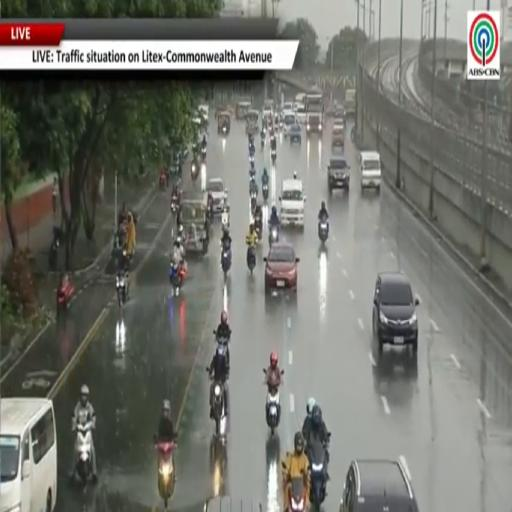bus: (0, 398, 57, 511)
car: (340, 458, 418, 511), (373, 272, 419, 356), (264, 242, 299, 293), (279, 179, 305, 229), (204, 495, 263, 511), (327, 155, 350, 194), (360, 152, 381, 191), (207, 178, 226, 214), (283, 110, 296, 137), (288, 123, 302, 145), (334, 106, 345, 125), (296, 104, 306, 124), (198, 105, 209, 121), (326, 101, 337, 117), (262, 107, 272, 119), (282, 102, 293, 111)
jeepney: (180, 191, 209, 253), (331, 123, 345, 148), (246, 109, 259, 134), (218, 110, 230, 134), (236, 102, 251, 120), (215, 105, 228, 118)
motorcycle: (308, 440, 327, 508), (157, 442, 175, 509), (75, 422, 92, 486), (211, 381, 226, 438), (266, 388, 281, 435), (286, 476, 306, 511), (57, 280, 74, 317), (48, 227, 62, 270), (213, 331, 230, 363), (169, 263, 182, 296), (116, 272, 127, 308), (48, 237, 59, 270), (221, 245, 231, 277), (318, 219, 329, 244), (247, 246, 255, 275), (269, 226, 279, 247), (255, 215, 262, 241), (207, 196, 214, 222), (222, 203, 229, 228), (250, 189, 257, 211), (171, 196, 179, 214), (191, 163, 199, 181), (249, 168, 256, 186), (262, 183, 269, 201), (159, 173, 166, 189), (201, 145, 206, 162), (271, 149, 276, 163), (261, 133, 265, 150), (221, 124, 227, 135), (249, 154, 254, 165), (279, 119, 283, 130)
truck: (305, 92, 324, 134), (345, 89, 356, 118)
